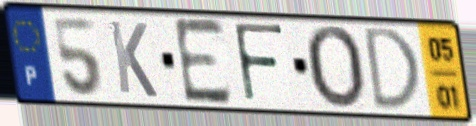5: (49, 14, 105, 100)
D: (362, 25, 424, 114)
E: (170, 16, 236, 108)
F: (230, 20, 287, 107)
K: (106, 18, 161, 101)
O: (302, 23, 368, 113)
